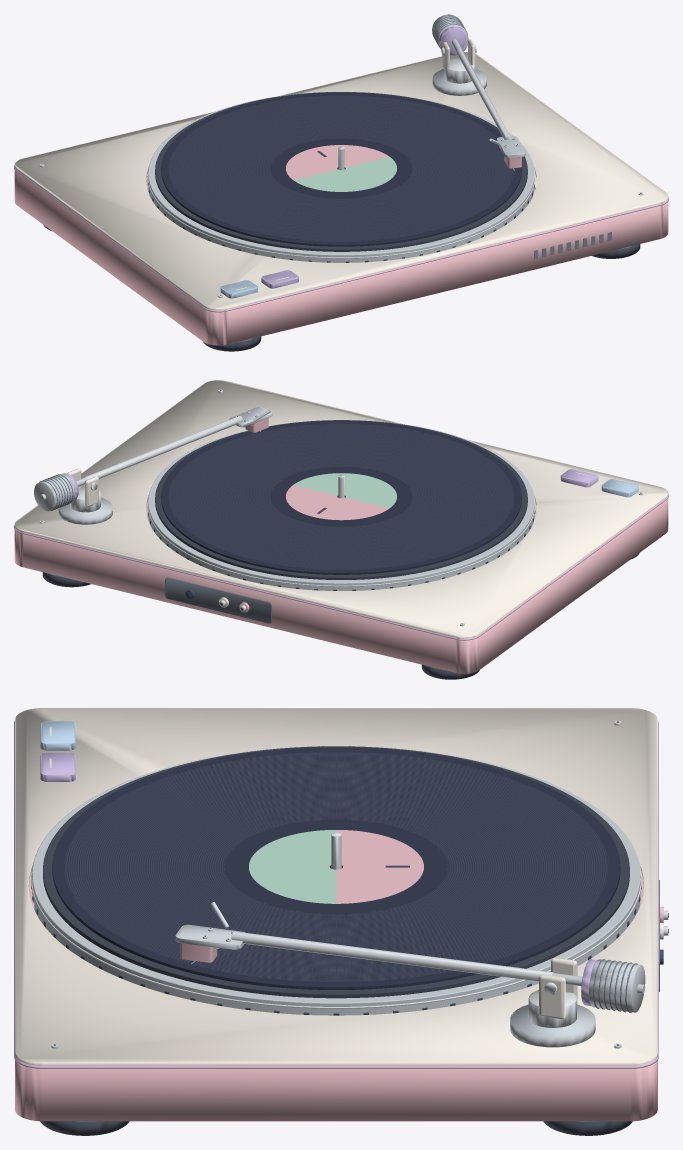
File: vinyl.glb
3 renders of one model, top to bottom at view 1: azimuth 30°, elevation 25°; view 2: azimuth 150°, elevation 25°; view 3: azimuth 270°, elevation 25°, orthographic. The views are drawn at different scales.
Visible parts, largest first — view 1: MESH_LP_DISC_VINYL_MAT, MESH_DECK_TOP_Vinyl_pastel_cream, MESH_DECK_SHELL_Vinyl_pastel_blush, MESH_PLATTER_Vinyl_pastel_satin_metal, MESH_MAT_RUBBER_MAT, MESH_LP_DISC_Vinyl_pastel_mint, MESH_LP_DISC_Vinyl_pastel_blush, MESH_DECK_SHELL_Vinyl_pastel_lilac, MESH_TONEARM_Vinyl_pastel_chrome, MESH_PLATTER_Vinyl_pastel_chrome, MESH_DECK_ASSEMBLY_Vinyl_pastel_satin_metal, MESH_FEET_RUBBER_MAT (+4 smaller); view 2: MESH_LP_DISC_VINYL_MAT, MESH_DECK_TOP_Vinyl_pastel_cream, MESH_DECK_SHELL_Vinyl_pastel_blush, MESH_PLATTER_Vinyl_pastel_satin_metal, MESH_MAT_RUBBER_MAT, MESH_DECK_SHELL_Vinyl_pastel_soft_grey_gasket, MESH_LP_DISC_Vinyl_pastel_blush, MESH_LP_DISC_Vinyl_pastel_mint, MESH_TONEARM_Vinyl_pastel_chrome, MESH_DECK_SHELL_Vinyl_pastel_lilac, MESH_COUNTERWEIGHT_Vinyl_pastel_satin_metal, MESH_DECK_ASSEMBLY_Vinyl_pastel_satin_metal (+5 smaller); view 3: MESH_LP_DISC_VINYL_MAT, MESH_DECK_TOP_Vinyl_pastel_cream, MESH_DECK_SHELL_Vinyl_pastel_blush, MESH_PLATTER_Vinyl_pastel_satin_metal, MESH_MAT_RUBBER_MAT, MESH_LP_DISC_Vinyl_pastel_mint, MESH_LP_DISC_Vinyl_pastel_blush, MESH_TONEARM_Vinyl_pastel_chrome, MESH_COUNTERWEIGHT_Vinyl_pastel_satin_metal, MESH_DECK_ASSEMBLY_Vinyl_pastel_satin_metal, MESH_FEET_RUBBER_MAT, MESH_DECK_SHELL_Vinyl_pastel_lilac (+7 smaller).
Boxes of the visible parts, x1,y1,x2,y2 form: MESH_LP_DISC_VINYL_MAT: (161,92,521,246); MESH_DECK_TOP_Vinyl_pastel_cream: (14,52,667,310); MESH_DECK_SHELL_Vinyl_pastel_blush: (14,167,668,345); MESH_PLATTER_Vinyl_pastel_satin_metal: (148,91,534,262); MESH_MAT_RUBBER_MAT: (155,92,527,251); MESH_LP_DISC_Vinyl_pastel_mint: (293,157,396,191); MESH_LP_DISC_Vinyl_pastel_blush: (286,145,389,179); MESH_DECK_SHELL_Vinyl_pastel_lilac: (14,165,668,312); MESH_TONEARM_Vinyl_pastel_chrome: (441,44,511,139); MESH_PLATTER_Vinyl_pastel_chrome: (147,168,535,258); MESH_DECK_ASSEMBLY_Vinyl_pastel_satin_metal: (432,69,486,95); MESH_FEET_RUBBER_MAT: (43,225,640,351); MESH_LP_DISC_VINYL_MAT: (161,420,521,574); MESH_DECK_TOP_Vinyl_pastel_cream: (15,380,667,638); MESH_DECK_SHELL_Vinyl_pastel_blush: (14,494,668,673); MESH_PLATTER_Vinyl_pastel_satin_metal: (148,420,534,590); MESH_MAT_RUBBER_MAT: (155,420,527,579); MESH_DECK_SHELL_Vinyl_pastel_soft_grey_gasket: (165,577,271,623); MESH_LP_DISC_Vinyl_pastel_blush: (286,485,389,520); MESH_LP_DISC_Vinyl_pastel_mint: (293,473,396,508); MESH_TONEARM_Vinyl_pastel_chrome: (84,416,242,490); MESH_DECK_SHELL_Vinyl_pastel_lilac: (14,493,668,640); MESH_COUNTERWEIGHT_Vinyl_pastel_satin_metal: (34,474,75,511); MESH_DECK_ASSEMBLY_Vinyl_pastel_satin_metal: (58,497,112,524); MESH_LP_DISC_VINYL_MAT: (52,747,620,989); MESH_DECK_TOP_Vinyl_pastel_cream: (15,708,657,1065); MESH_DECK_SHELL_Vinyl_pastel_blush: (15,871,663,1121); MESH_PLATTER_Vinyl_pastel_satin_metal: (32,746,640,1015); MESH_MAT_RUBBER_MAT: (43,746,629,998); MESH_LP_DISC_Vinyl_pastel_mint: (249,830,336,903); MESH_LP_DISC_Vinyl_pastel_blush: (336,830,423,903); MESH_TONEARM_Vinyl_pastel_chrome: (231,931,557,995); MESH_COUNTERWEIGHT_Vinyl_pastel_satin_metal: (589,959,645,1012); MESH_DECK_ASSEMBLY_Vinyl_pastel_satin_metal: (510,1004,595,1047); MESH_FEET_RUBBER_MAT: (40,1121,632,1135); MESH_DECK_SHELL_Vinyl_pastel_lilac: (14,720,658,1068).
Size of the model in its own units: 0.452 by 0.0945 by 0.3514.
Materials: 13 (1 with a texture image).
